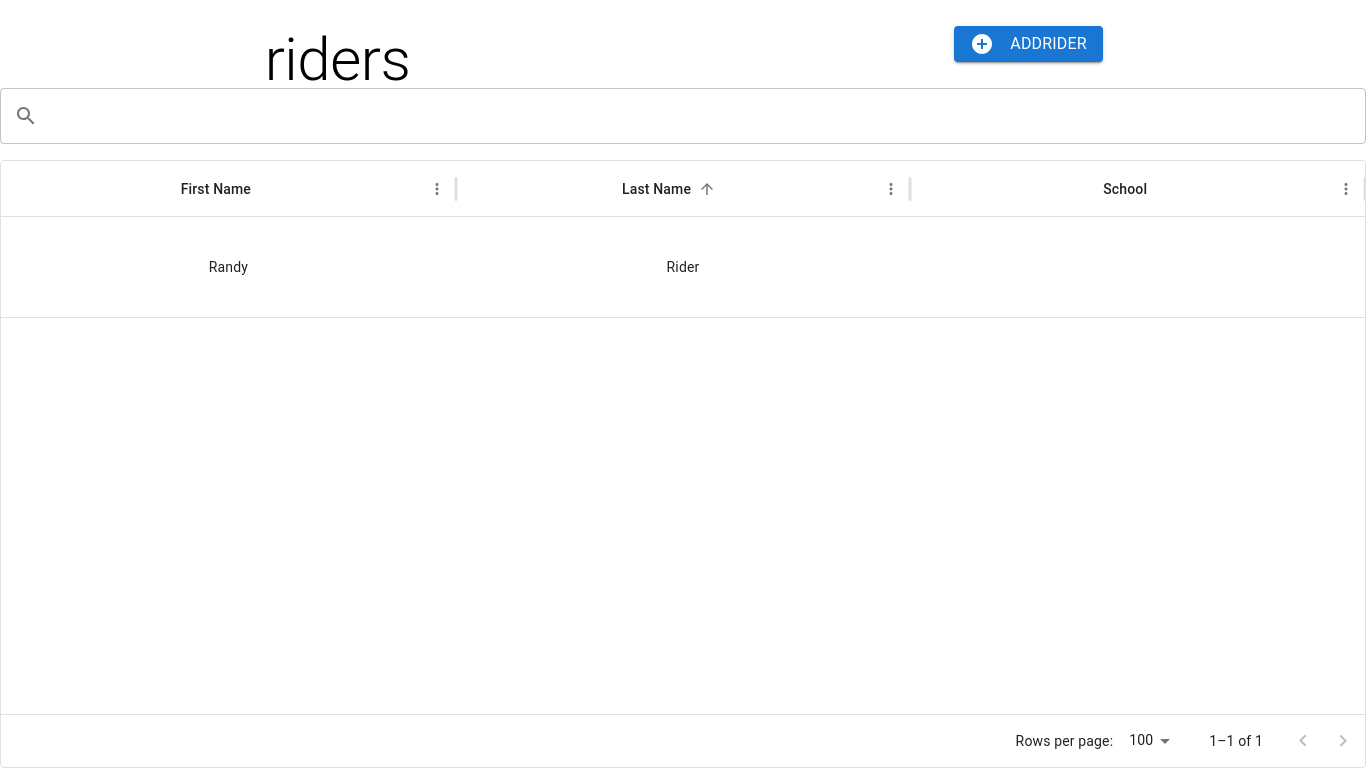
Test: Riders Tests › opens add rider modal when add rider button clicked, and closes on cancel click
This screenshot has width=1366, height=768.
Step 1. Click the button "addRider" → click(1028, 44), box left=954, top=26, right=1103, bottom=62
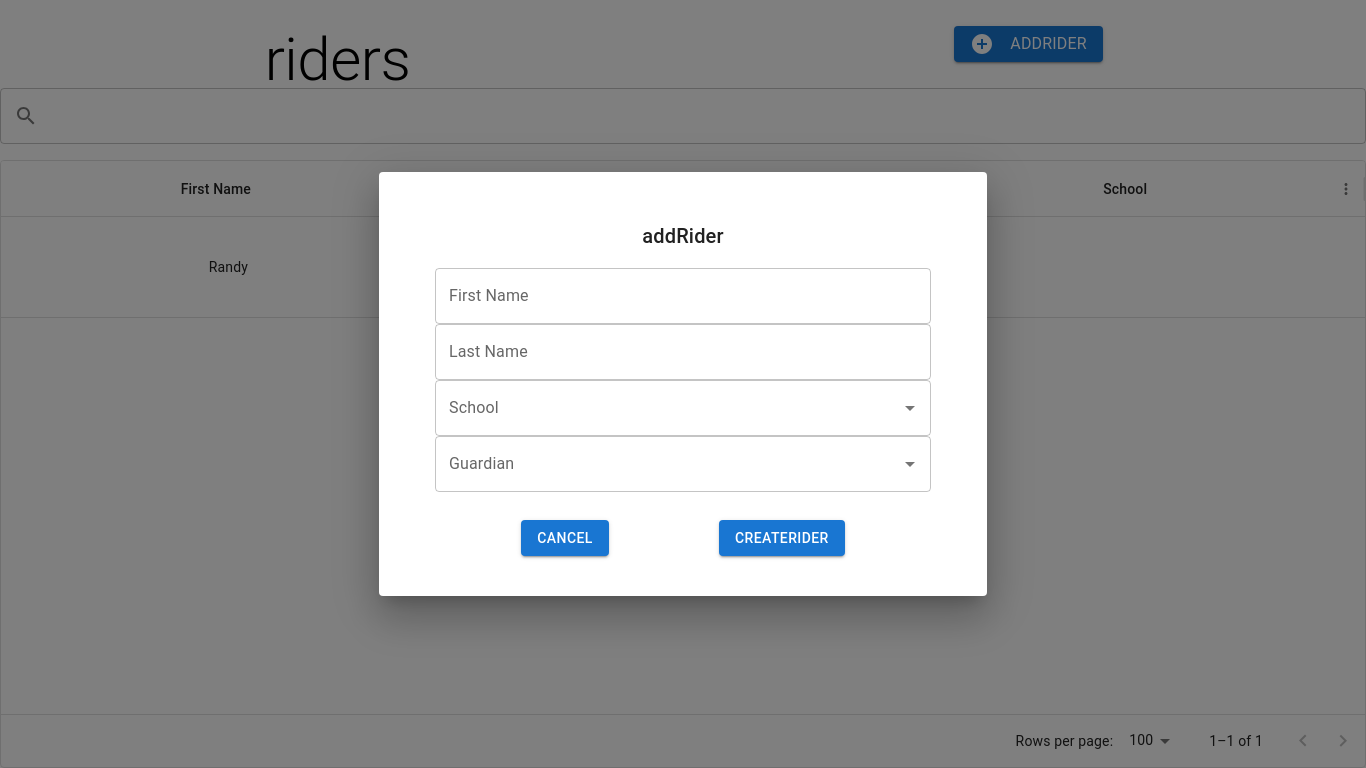
Expected: the button "createRider" is shown, left=719, top=520, right=845, bottom=556
Expected: the button "cancel" is shown
Step 2. Click the button "cancel" → click(565, 538), box left=521, top=520, right=609, bottom=556
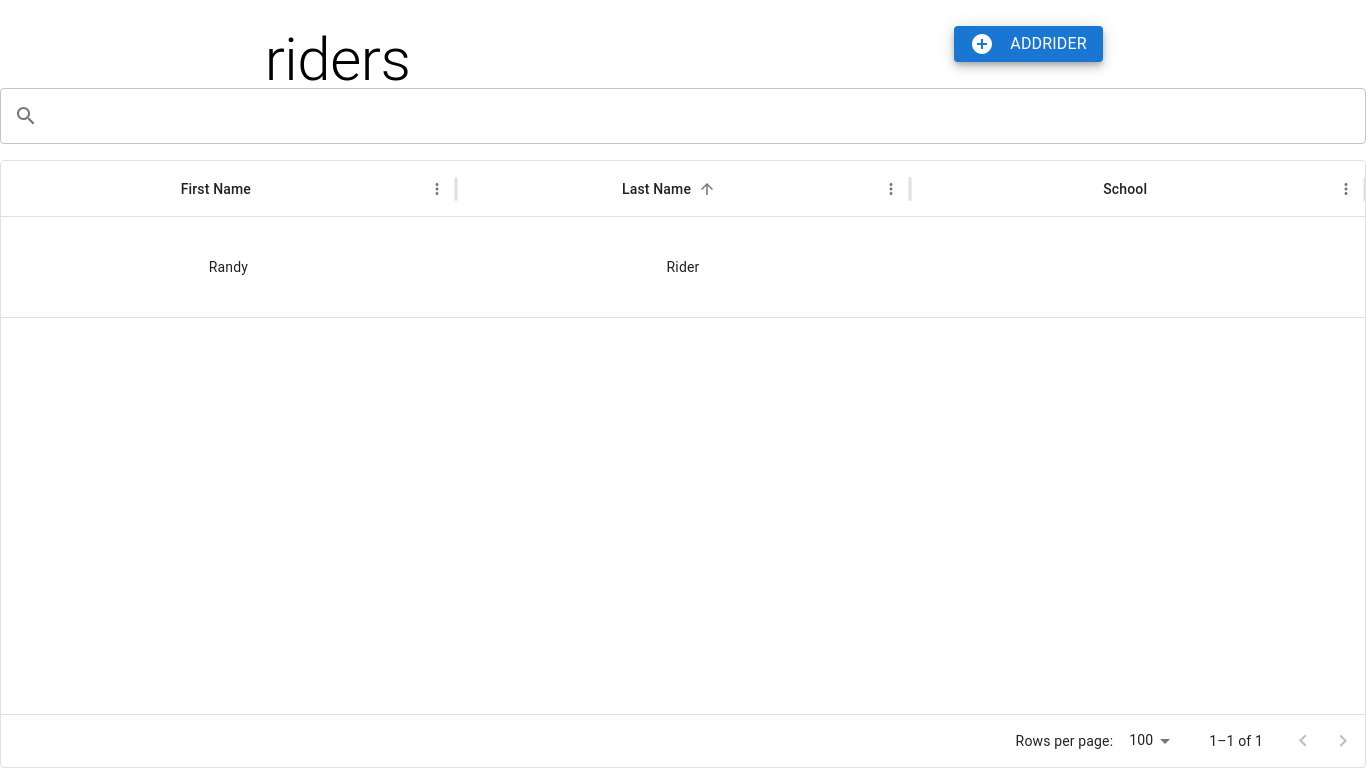
Expected: the button "cancel" is gone
